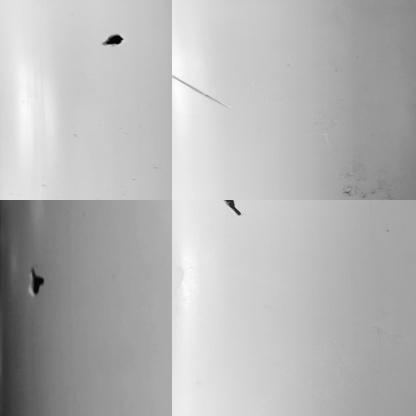kongdong: (24, 266, 59, 296), (221, 196, 246, 218), (98, 29, 125, 46)
sunshang: (169, 72, 232, 113)
